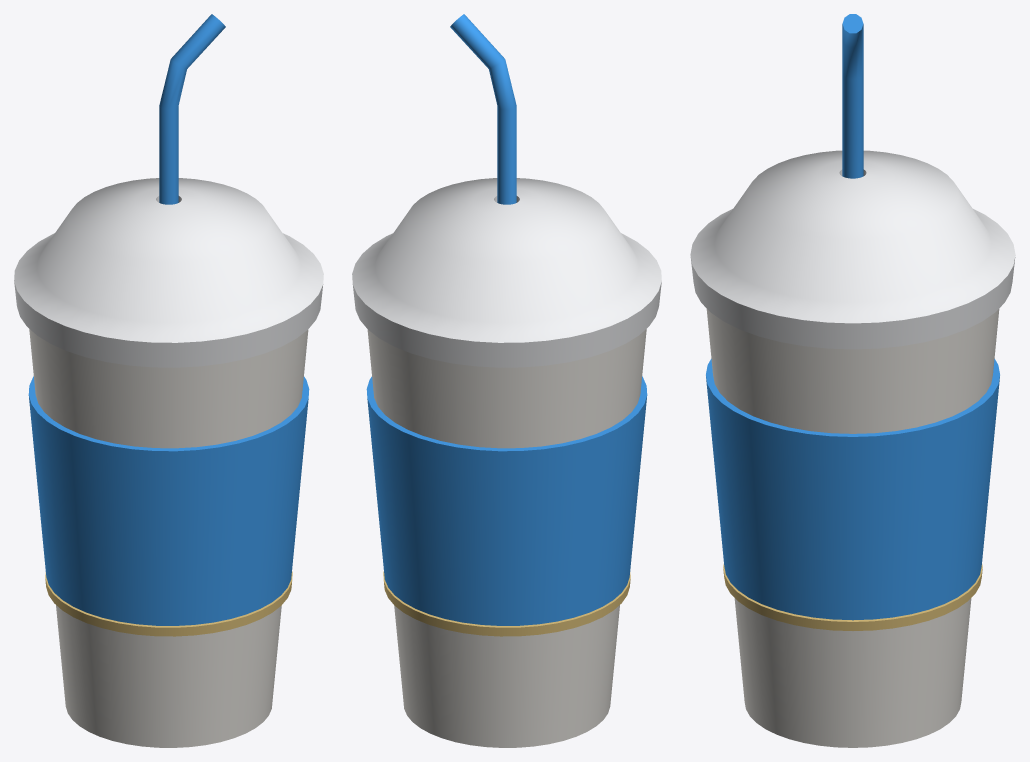
File: food_slush.glb
The picture shows the model from 3 angles, left to right: view 1: azimuth 30°, elevation 25°; view 2: azimuth 150°, elevation 25°; view 3: azimuth 270°, elevation 25°; orthographic projection. The views are drawn at different scales.
Visible parts, largest first — view 1: Band_LOD0, Lid_LOD0, Cup_LOD0, Straw_LOD0, Gold_LOD0; view 2: Band_LOD0, Lid_LOD0, Cup_LOD0, Straw_LOD0, Gold_LOD0; view 3: Band_LOD0, Lid_LOD0, Cup_LOD0, Straw_LOD0, Gold_LOD0.
Part boxes in pixels (x1=…): Band_LOD0: x1=28, y1=376, x2=309, y2=625; Lid_LOD0: x1=14, y1=178, x2=323, y2=367; Cup_LOD0: x1=29, y1=329, x2=308, y2=747; Straw_LOD0: x1=159, y1=14, x2=225, y2=204; Gold_LOD0: x1=45, y1=571, x2=292, y2=636; Band_LOD0: x1=366, y1=376, x2=647, y2=625; Lid_LOD0: x1=352, y1=178, x2=661, y2=367; Cup_LOD0: x1=367, y1=329, x2=646, y2=747; Straw_LOD0: x1=450, y1=14, x2=516, y2=204; Gold_LOD0: x1=383, y1=571, x2=630, y2=636; Band_LOD0: x1=706, y1=359, x2=999, y2=620; Lid_LOD0: x1=690, y1=150, x2=1015, y2=349; Cup_LOD0: x1=706, y1=309, x2=999, y2=747; Straw_LOD0: x1=842, y1=14, x2=863, y2=178; Gold_LOD0: x1=723, y1=564, x2=982, y2=630.
Bounding box in the file's own units: 0.108 × 0.2606 × 0.108.
